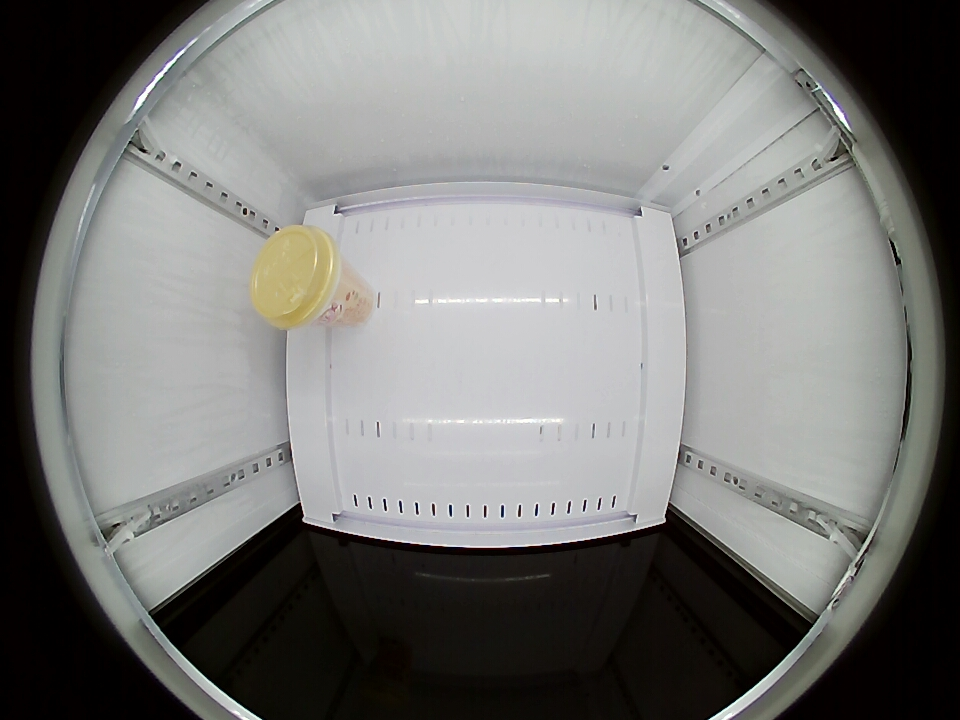youlemei: (250, 225, 344, 329)
